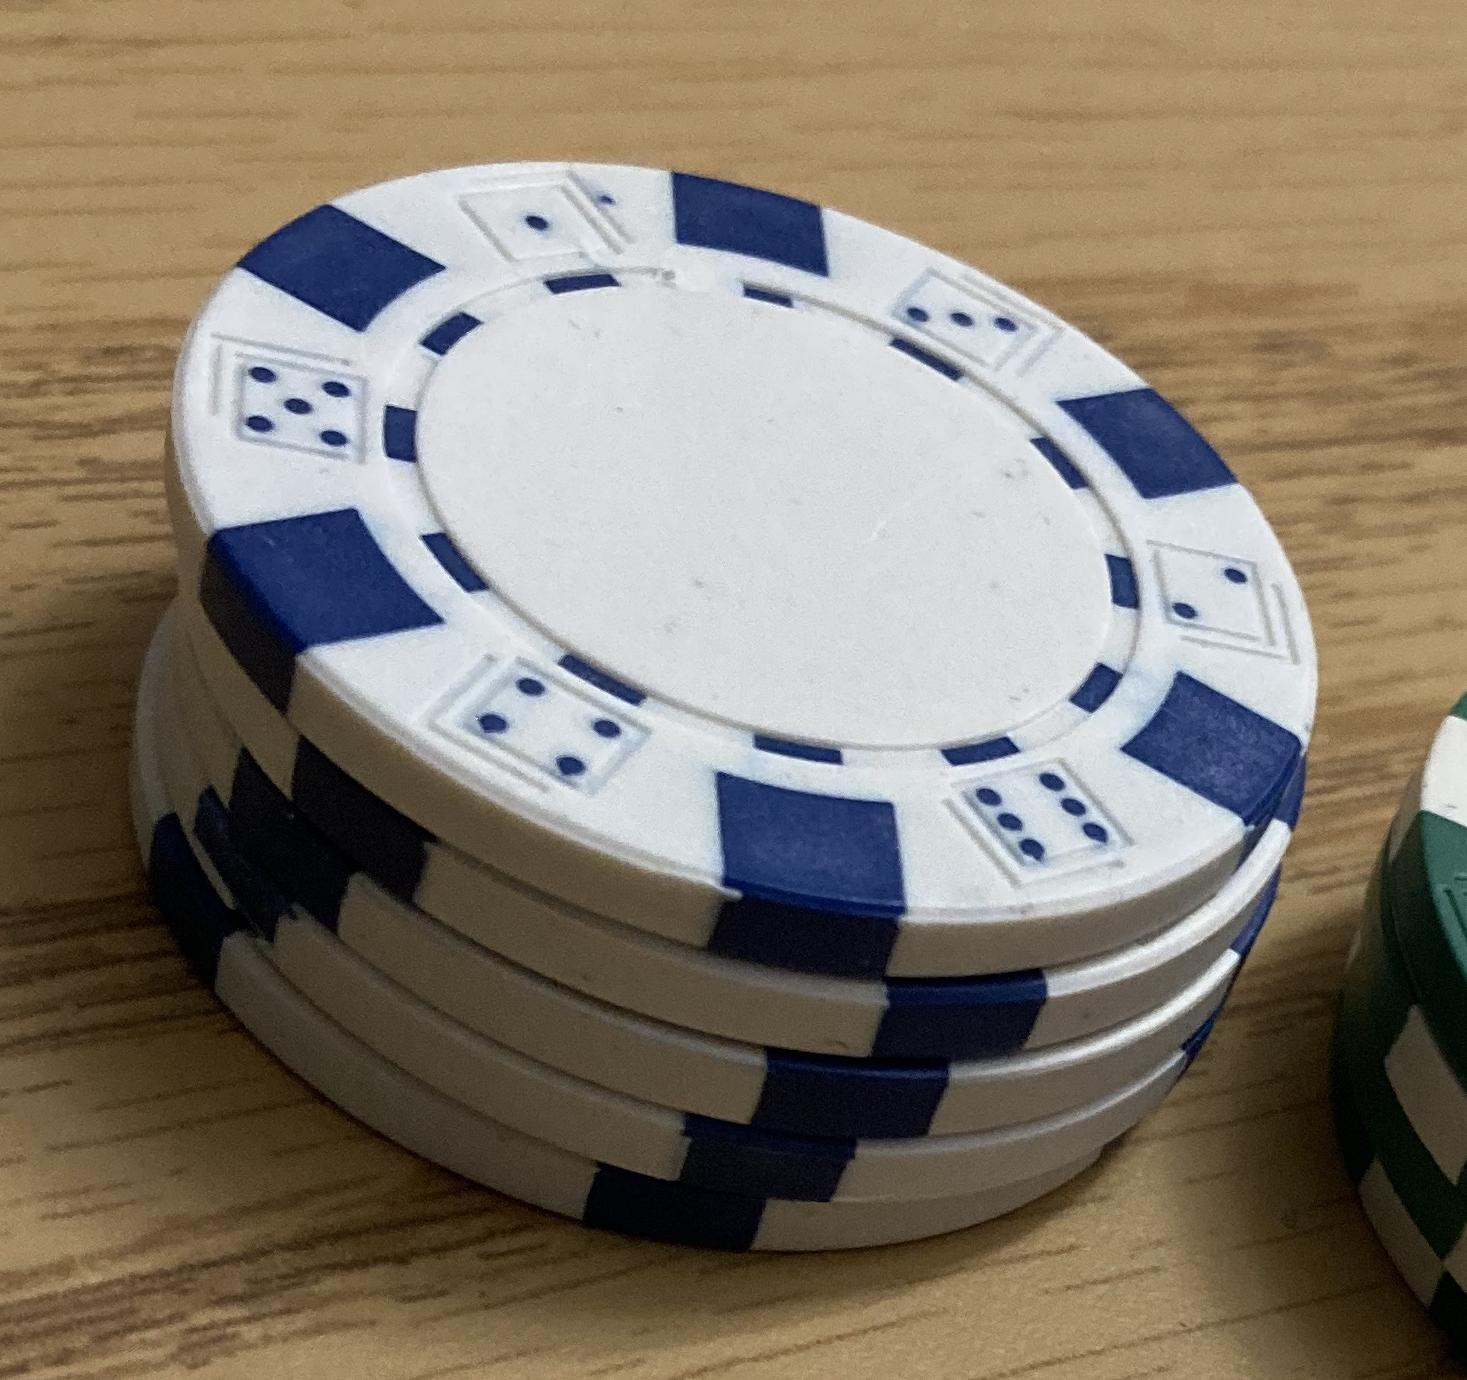Chip: (1, 1, 1467, 1380)
